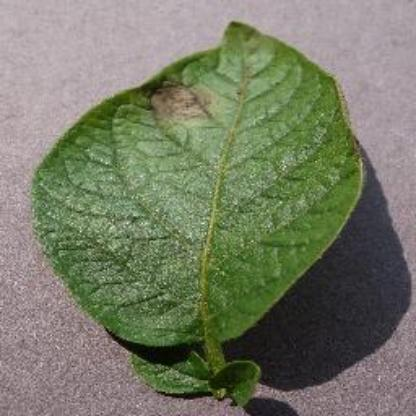Late-Blight: (31, 18, 379, 380)
